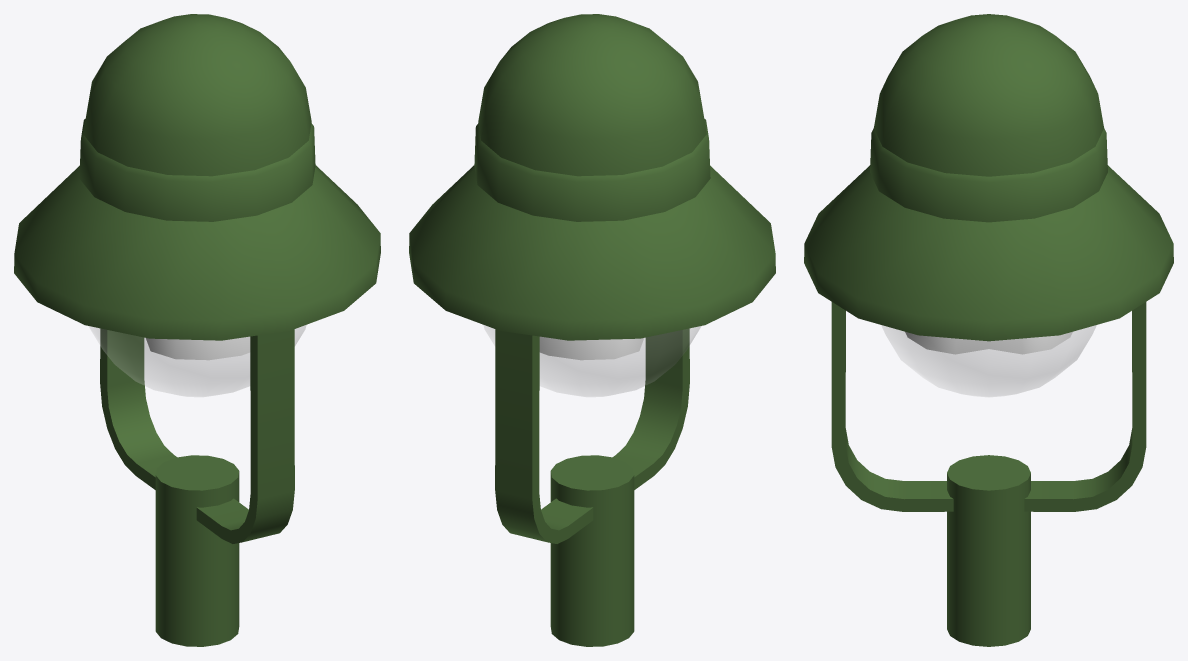
3 views of the same model, side by side, from view 1: azimuth 30°, elevation 25°; view 2: azimuth 150°, elevation 25°; view 3: azimuth 270°, elevation 25° (orthographic).
Visible parts, largest first — view 1: Schirm DL 302, Schirmbuegel.001, Cylinder.001, Glas.001, Reflektor.001; view 2: Schirm DL 302, Schirmbuegel.001, Cylinder.001, Glas.001, Reflektor.001; view 3: Schirm DL 302, Cylinder.001, Schirmbuegel.001, Glas.001, Reflektor.001.
Part boxes in pixels (box(x1,y1,x2,y2)): Schirm DL 302: box(14, 14, 380, 340); Schirmbuegel.001: box(100, 328, 294, 543); Cylinder.001: box(155, 455, 239, 646); Glas.001: box(89, 325, 306, 396); Reflektor.001: box(146, 336, 250, 360); Schirm DL 302: box(409, 14, 775, 340); Schirmbuegel.001: box(495, 328, 689, 543); Cylinder.001: box(550, 455, 634, 646); Glas.001: box(483, 325, 700, 396); Reflektor.001: box(539, 336, 643, 360); Schirm DL 302: box(804, 14, 1173, 341); Cylinder.001: box(947, 455, 1030, 646); Schirmbuegel.001: box(831, 302, 1146, 511); Glas.001: box(881, 325, 1096, 396); Reflektor.001: box(905, 331, 1072, 354).
Bounding box in the file's own units: 0.4395 × 0.7939 × 0.4395.
4 materials, 3 textured.
